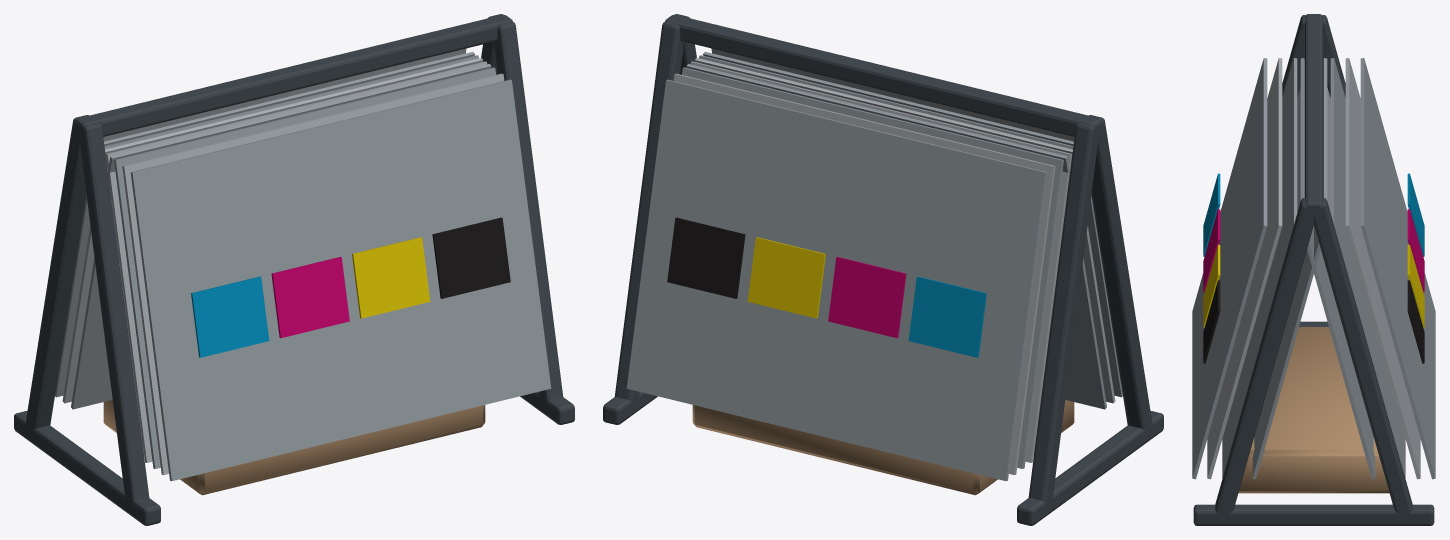
File: m_platerack2.glb
3 views of the same model, side by side, from view 1: azimuth 30°, elevation 25°; view 2: azimuth 150°, elevation 25°; view 3: azimuth 270°, elevation 25° (orthographic). The views are drawn at different scales.
Visible parts, largest first — view 1: m_platerack2; view 2: m_platerack2; view 3: m_platerack2.
Boxes of the visible parts, <box> form: m_platerack2: <box>14,14,574,525</box>; m_platerack2: <box>603,14,1163,525</box>; m_platerack2: <box>1192,14,1435,525</box>.
Bounding box in the file's own units: 0.75 × 0.595 × 0.4046.
